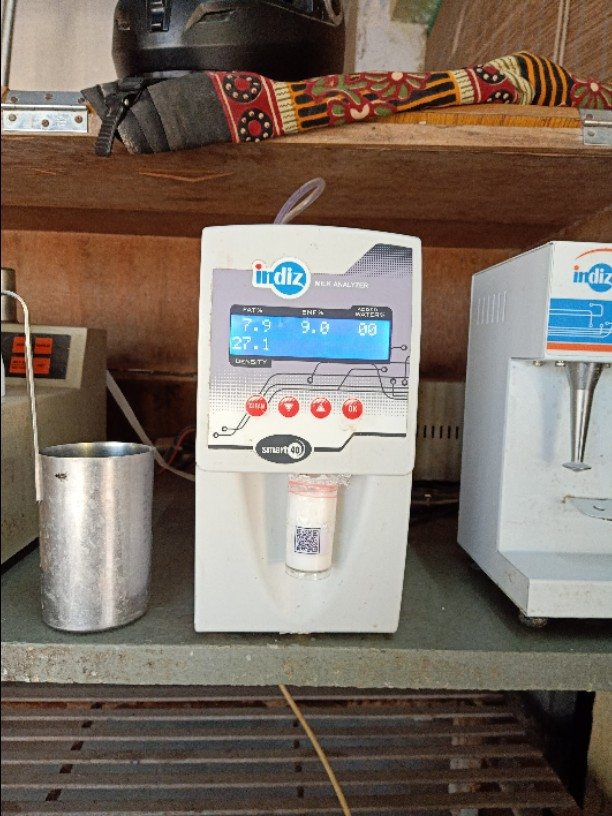lcd: (228, 308, 393, 369)
qr: (290, 524, 324, 555)
